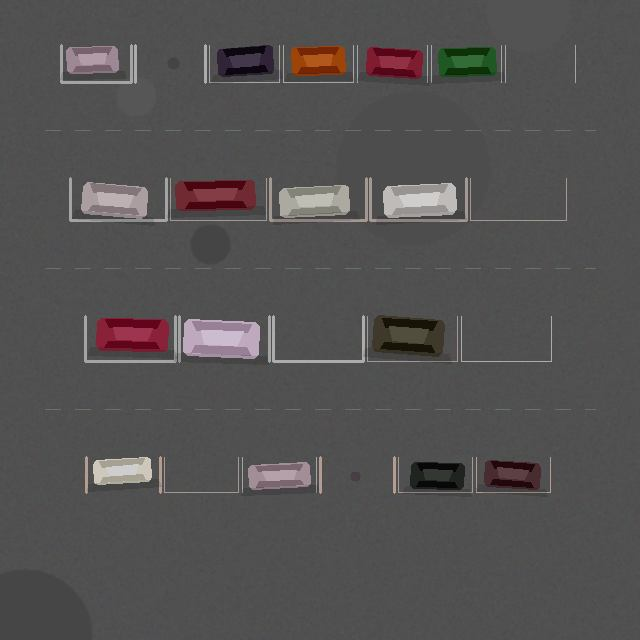space-empty: (273, 316, 363, 361), (461, 316, 551, 361), (470, 178, 566, 220), (135, 45, 205, 82), (505, 45, 575, 82), (164, 457, 238, 492), (320, 457, 394, 492)
space-occupied: (85, 316, 175, 361), (179, 316, 269, 361), (367, 316, 457, 361), (70, 178, 166, 220), (170, 178, 266, 220), (270, 178, 366, 220), (370, 178, 466, 220), (61, 45, 131, 82), (209, 45, 279, 82), (283, 45, 353, 82), (357, 45, 427, 82), (431, 45, 501, 82), (86, 457, 160, 492), (242, 457, 316, 492), (398, 457, 472, 492), (476, 457, 550, 492)
